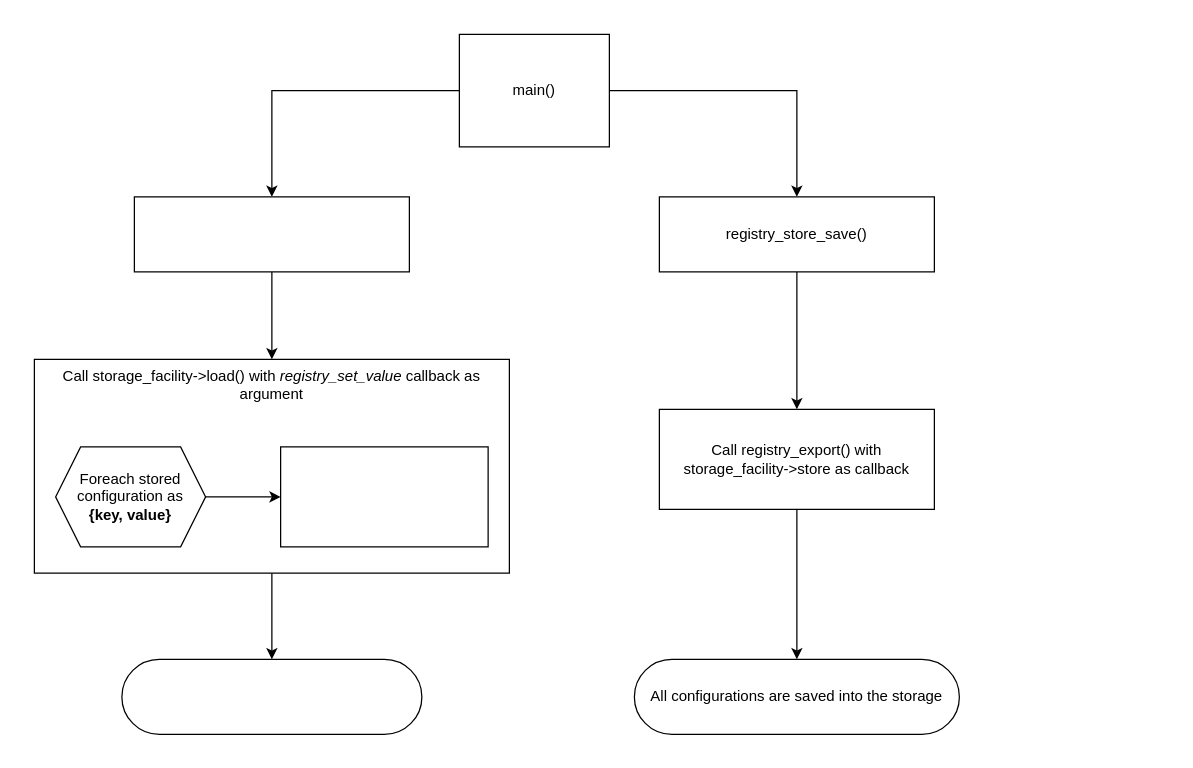
Some shapes in this 1193 by 768 pixel diagram are drawn without their labels. The centre of each missing label's shape, as x and y in pixels:
"All configurations are loaded from storage" belongs at point 271,696.
"registry_load()" belongs at point 271,234.
"registry_set_value(key, value)" belongs at point 383,496.
